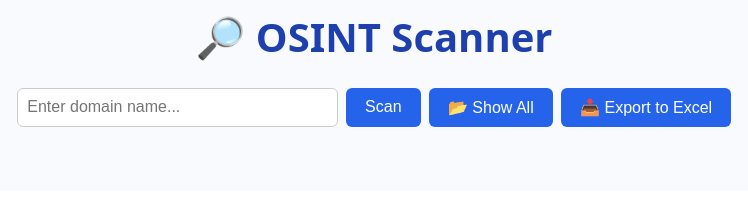
Test case: Domain validation in App › shows error for invalid domain
The width and height of the screenshot is (748, 198).
# Simulate user entering an invalid domain
In the field with placeholder "Enter domain name...": point(177, 107) [17,88,338,127], type "invalid_domain"
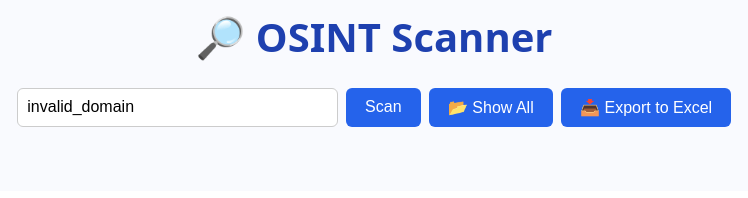
# Simulate user clicking the Scan button
Click the button "Scan": point(383, 107) [346,88,421,127]
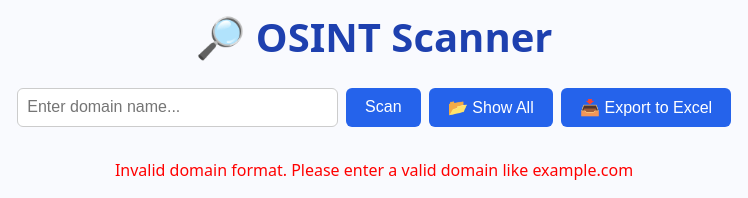
Expected: the text "Invalid domain format" is shown, [115,159,633,181]
